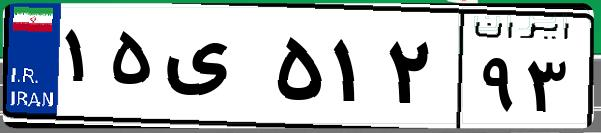1: (330, 28, 385, 110), (57, 26, 110, 100)
2: (385, 28, 445, 110)
3: (525, 38, 570, 115)
5: (270, 28, 330, 110), (110, 28, 158, 98)
9: (475, 38, 525, 113)
ی: (158, 20, 270, 120)
